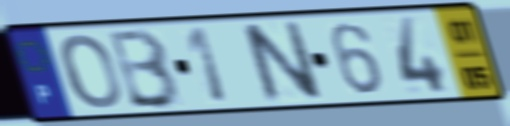1: (185, 23, 229, 108)
4: (395, 14, 453, 97)
6: (327, 20, 387, 97)
B: (107, 25, 184, 111)
N: (236, 17, 326, 106)
O: (58, 31, 124, 112)
